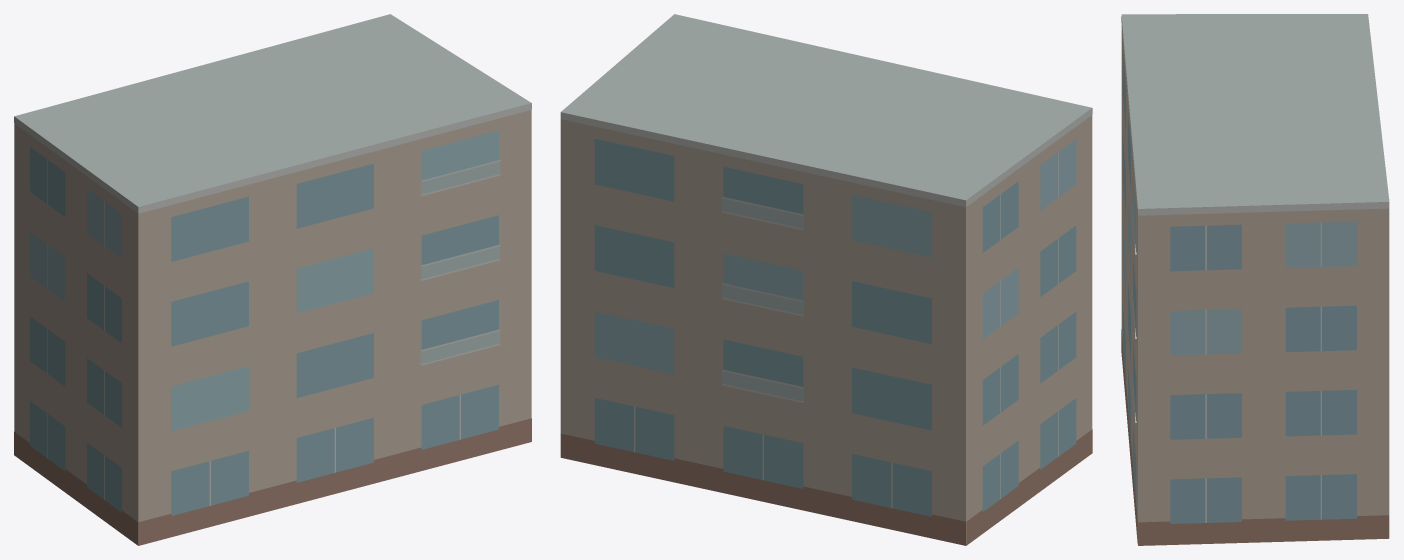
The model's file is survey-upis-32618394.glb.
3 renders of one model, left to right at view 1: azimuth 30°, elevation 25°; view 2: azimuth 150°, elevation 25°; view 3: azimuth 270°, elevation 25°, orthographic. The views are drawn at different scales.
Visible parts, largest first — view 1: survey-upis-32618394.tmp; view 2: survey-upis-32618394.tmp; view 3: survey-upis-32618394.tmp.
Boxes of the visible parts, bbox=[...] form: survey-upis-32618394.tmp: bbox=[14, 14, 531, 545]; survey-upis-32618394.tmp: bbox=[560, 14, 1092, 545]; survey-upis-32618394.tmp: bbox=[1121, 14, 1389, 545].
Bounding box in the file's own units: 15.15 × 12.2 × 8.81.
